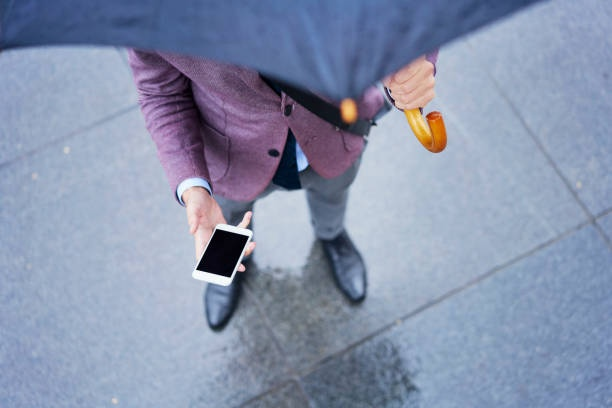phone: (191, 222, 253, 288)
